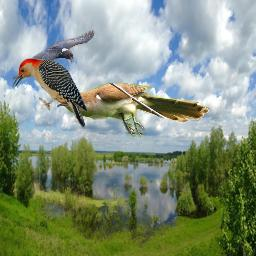Crow: (13, 29, 95, 80)
Cuckoo: (56, 83, 210, 137)
Woodpecker: (12, 58, 89, 131)
